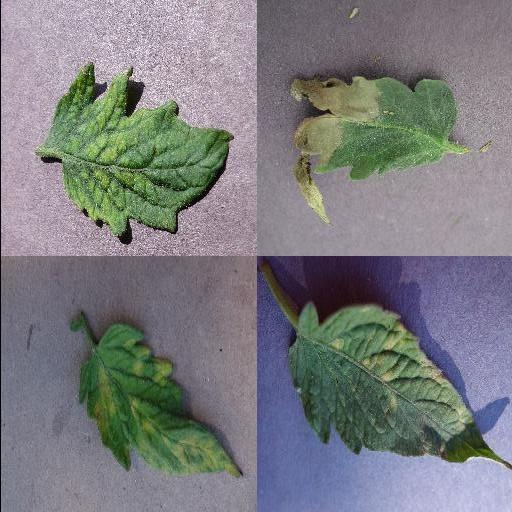Late Blight: (285, 72, 459, 224)
Leaf Mold: (286, 301, 510, 469), (77, 323, 241, 477)
Mosaic Virus: (44, 63, 234, 237)
